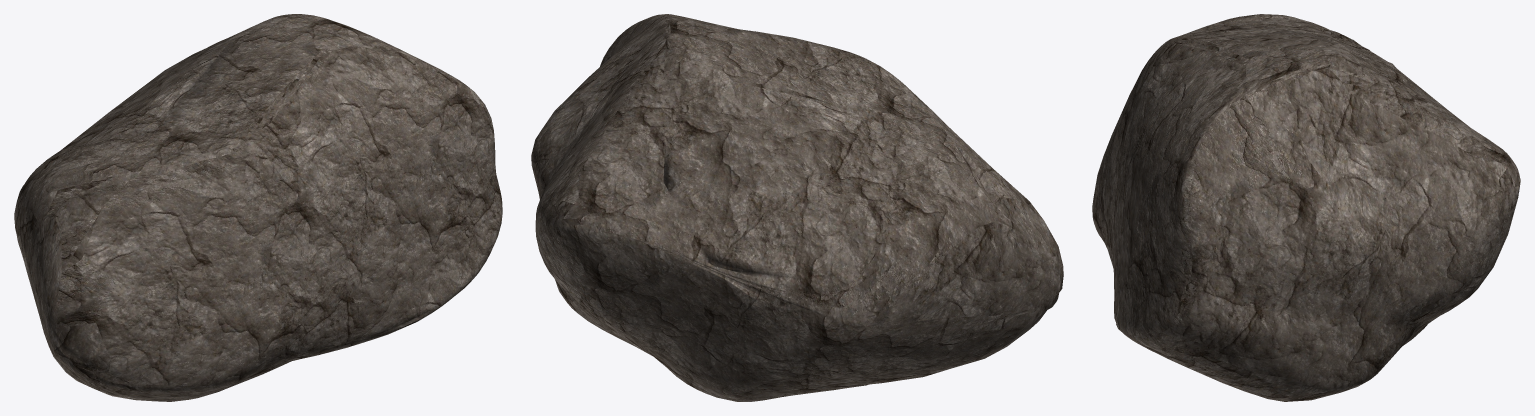
Rendered from rock6.glb.
3 renders of one model, left to right at view 1: azimuth 30°, elevation 25°; view 2: azimuth 150°, elevation 25°; view 3: azimuth 270°, elevation 25°, orthographic. The views are drawn at different scales.
Parts seen in each view (by area): view 1: rock6.005; view 2: rock6.005; view 3: rock6.005.
Boxes of the visible parts, x1,y1,x2,y2 form: rock6.005: (14,14,502,401); rock6.005: (531,14,1063,401); rock6.005: (1092,14,1520,401).
Size of the model in its own units: 17.29 by 11.3 by 13.28.
1 material, 1 textured.
